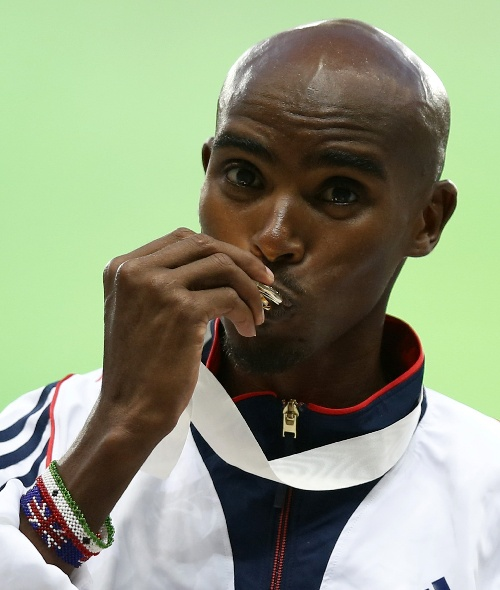face: (197, 74, 405, 363)
